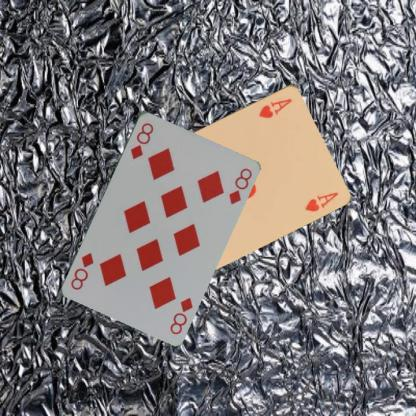8d: (167, 294, 194, 336), (127, 120, 155, 160)
Ah: (256, 95, 293, 119)
